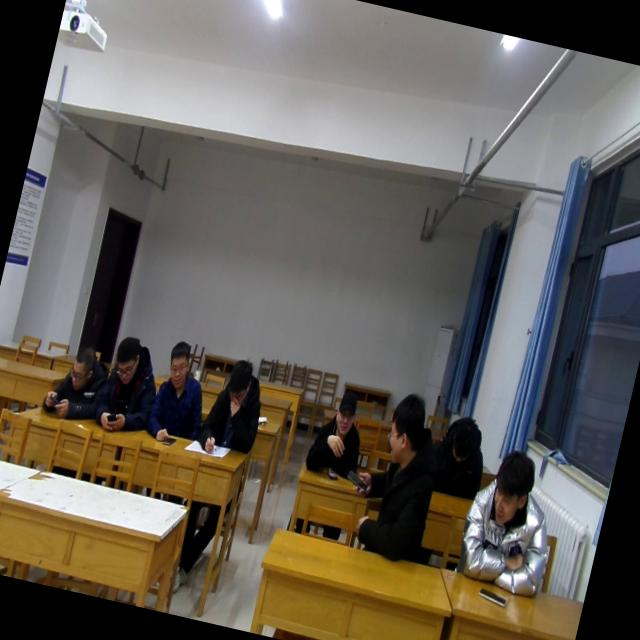bow: (448, 442, 570, 604), (40, 339, 115, 427)
down: (482, 447, 542, 535), (107, 328, 147, 386), (221, 351, 258, 408), (64, 341, 102, 394), (445, 412, 481, 465)
lookup: (160, 337, 198, 390), (328, 388, 364, 434)
sit: (340, 382, 458, 565), (290, 381, 375, 536), (196, 352, 273, 462), (90, 331, 168, 434), (145, 342, 219, 444), (422, 410, 496, 501)
